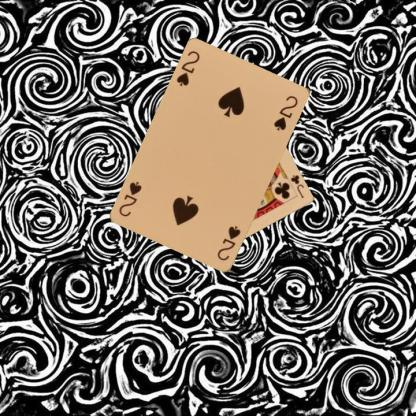2s: (174, 48, 201, 88), (214, 224, 242, 262)
Jc: (288, 172, 305, 200)
